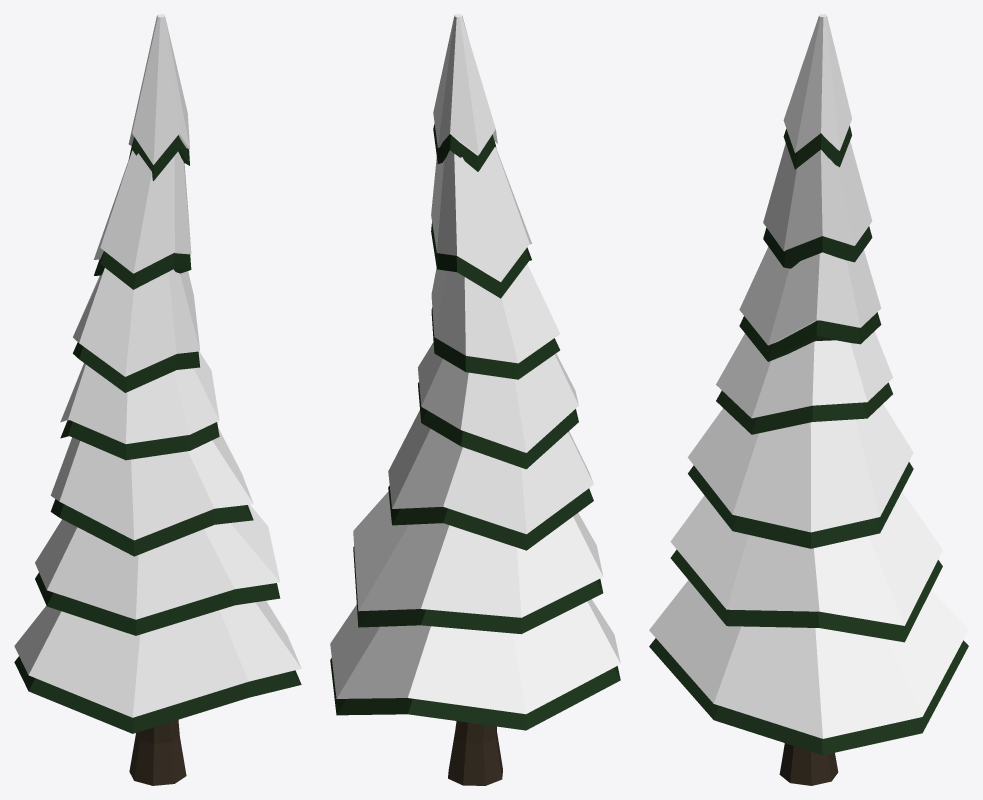
Rendered from Tree_1.obj.
The picture shows the model from 3 angles, left to right: view 1: azimuth 30°, elevation 25°; view 2: azimuth 150°, elevation 25°; view 3: azimuth 270°, elevation 25°; orthographic projection.
Visible parts, largest first — view 1: Cylinder.000_Cylinder.004; view 2: Cylinder.000_Cylinder.004; view 3: Cylinder.000_Cylinder.004.
Part boxes in pixels (x1,y1,x2,y2): Cylinder.000_Cylinder.004: [14, 14, 301, 785]; Cylinder.000_Cylinder.004: [330, 14, 620, 785]; Cylinder.000_Cylinder.004: [649, 14, 968, 785].
Size of the model in its own units: 2.12 by 5.59 by 2.12.
